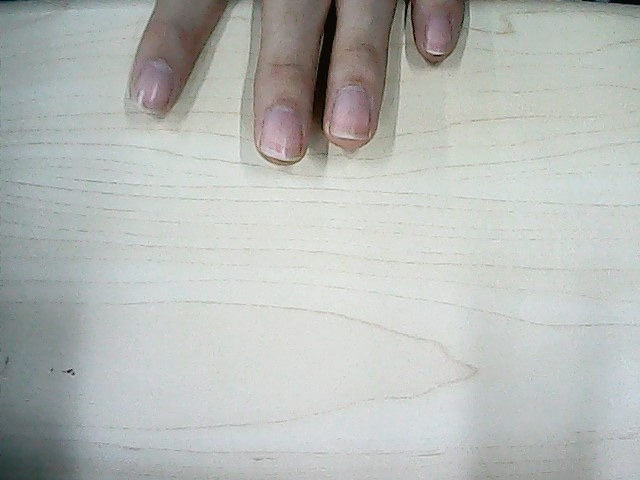nail: (260, 109, 303, 162), (133, 63, 171, 114), (333, 88, 371, 139), (426, 14, 453, 58)
